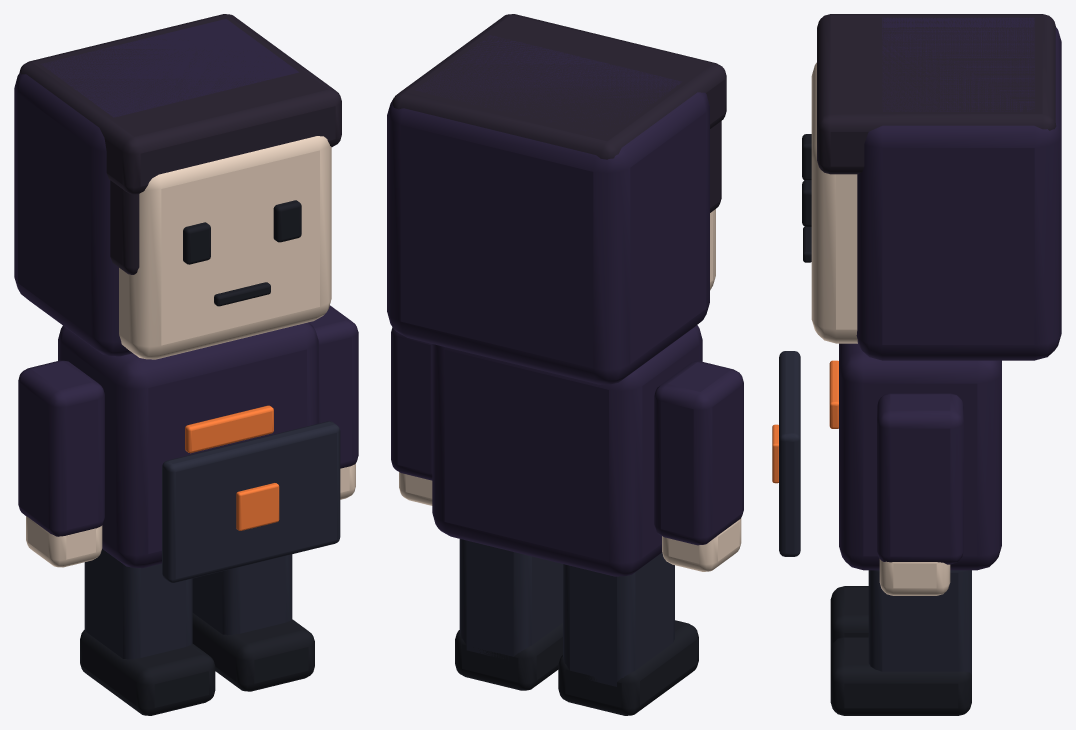
File: joseba.glb
The picture shows the model from 3 angles, left to right: view 1: azimuth 30°, elevation 25°; view 2: azimuth 150°, elevation 25°; view 3: azimuth 270°, elevation 25°; orthographic projection. The views are drawn at different scales.
Visible parts, largest first — view 1: Hood, Face, Jacket, Hair, Laptop, Arm_L_sleeve, Leg_L_trouser, Leg_L_shoe, Leg_R_shoe, Leg_R_trouser, Arm_R_sleeve, ChestBadge (+6 smaller); view 2: Hood, Jacket, Hair, Arm_L_sleeve, Leg_L_trouser, Leg_R_trouser, Arm_R_sleeve, Leg_L_shoe, Leg_R_shoe, Arm_L_hand, HairSide, Arm_R_hand; view 3: Hood, Hair, Jacket, Arm_R_sleeve, Leg_R_trouser, Face, Leg_R_shoe, Laptop, Arm_R_hand, Leg_L_shoe, ChestBadge.
Part boxes in pixels (<box>): Hood: <box>14,19,298,356</box>; Face: <box>119,136,331,359</box>; Jacket: <box>58,322,318,568</box>; Hair: <box>19,14,341,194</box>; Laptop: <box>162,421,340,582</box>; Arm_L_sleeve: <box>18,360,104,536</box>; Leg_L_trouser: <box>84,549,192,659</box>; Leg_L_shoe: <box>80,630,215,715</box>; Leg_R_shoe: <box>192,613,314,691</box>; Leg_R_trouser: <box>192,554,292,635</box>; Arm_R_sleeve: <box>309,305,358,468</box>; ChestBadge: <box>185,405,273,453</box>; Hood: <box>387,35,709,384</box>; Jacket: <box>432,325,702,576</box>; Hair: <box>392,14,726,159</box>; Arm_L_sleeve: <box>654,361,743,545</box>; Leg_L_trouser: <box>563,553,674,686</box>; Leg_R_trouser: <box>459,539,562,658</box>; Arm_R_sleeve: <box>391,327,432,480</box>; Leg_L_shoe: <box>558,620,698,715</box>; Leg_R_shoe: <box>455,623,562,690</box>; Arm_L_hand: <box>662,518,741,571</box>; HairSide: <box>710,121,721,212</box>; Arm_R_hand: <box>399,472,432,505</box>; Hood: <box>856,17,1061,360</box>; Hair: <box>817,14,1056,174</box>; Jacket: <box>839,343,1001,570</box>; Arm_R_sleeve: <box>877,393,963,564</box>; Leg_R_trouser: <box>868,570,971,674</box>; Face: <box>811,62,857,343</box>; Leg_R_shoe: <box>830,636,971,715</box>; Laptop: <box>779,351,800,556</box>; Arm_R_hand: <box>879,559,950,595</box>; Leg_L_shoe: <box>830,586,868,649</box>; ChestBadge: <box>829,360,838,428</box>.
Bounding box in the file's own units: 0.68 × 1.24 × 0.5325.
